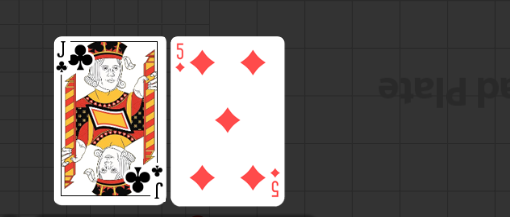5D: (175, 43, 187, 75)
JC: (55, 40, 69, 75)
